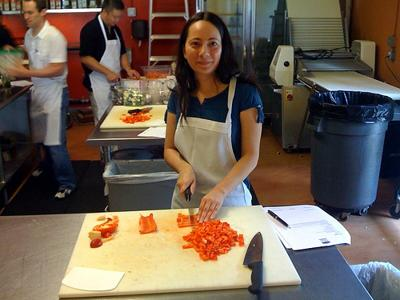person: (158, 11, 266, 226)
